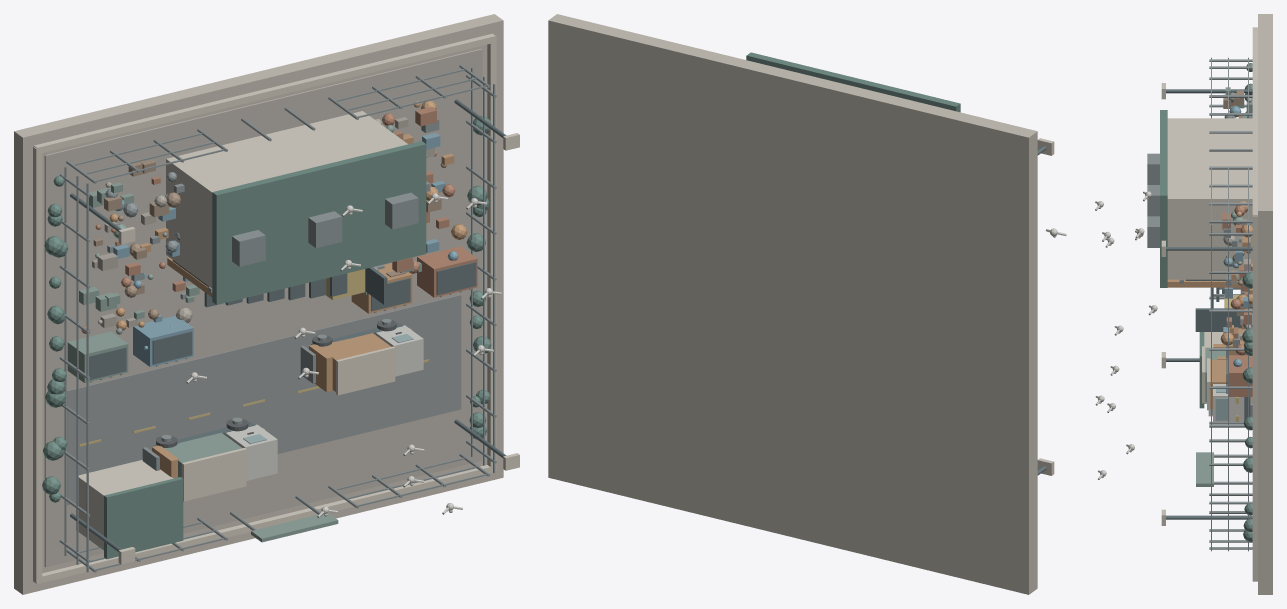
File: rubbish-tip.glb
3 views of the same model, side by side, from view 1: azimuth 30°, elevation 25°; view 2: azimuth 150°, elevation 25°; view 3: azimuth 270°, elevation 25° (orthographic). The views are drawn at different scales.
Parts seen in each view (by area): view 1: 0001_yard_asphalt, 0006_truck_lane, 0000_city_block, 0015_shed_roof, 0014_sorting_shed, 0350_office_roof, 0005_curb, 0002_curb, 0004_curb, 0003_curb, 0349_office, 0255_compactor_roof (+24 smaller); view 2: 0000_city_block, 0015_shed_roof; view 3: 0014_sorting_shed, 0000_city_block, 0003_curb, 0015_shed_roof, 0005_curb, 0371_forklift_mast, 0247_skip_container, 0353_site_sign, 0277_driver_cab, 0057_shed_column, 0275_compactor_body, 0058_roof_vent (+11 smaller).
Boxes of the visible parts, x1,y1,x2,y2 form: 0001_yard_asphalt: (44,48,482,567); 0006_truck_lane: (67,294,461,505); 0000_city_block: (14,14,503,594); 0015_shed_roof: (212,141,426,304); 0014_sorting_shed: (166,111,407,288); 0350_office_roof: (104,477,183,559); 0005_curb: (33,33,495,152); 0002_curb: (33,146,42,583); 0004_curb: (36,465,495,583); 0003_curb: (487,36,496,471); 0349_office: (76,460,173,550); 0255_compactor_roof: (181,448,246,501); 0000_city_block: (548,14,1037,594); 0015_shed_roof: (746,52,960,112); 0014_sorting_shed: (1167,118,1252,279); 0000_city_block: (1258,14,1272,594); 0003_curb: (1252,216,1257,581); 0015_shed_roof: (1160,110,1167,287); 0005_curb: (1252,27,1257,215); 0371_forklift_mast: (1195,308,1252,331); 0247_skip_container: (1229,355,1252,396); 0353_site_sign: (1196,452,1213,486); 0277_driver_cab: (1213,384,1244,421); 0057_shed_column: (1167,279,1240,287); 0275_compactor_body: (1210,359,1227,408); 0058_roof_vent: (1147,153,1159,184).
Bounding box in the file's own units: 22 × 20 × 8.4.
